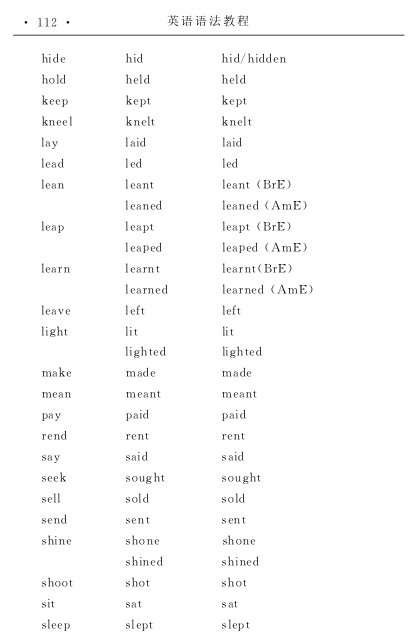table: (41, 52, 312, 630)
